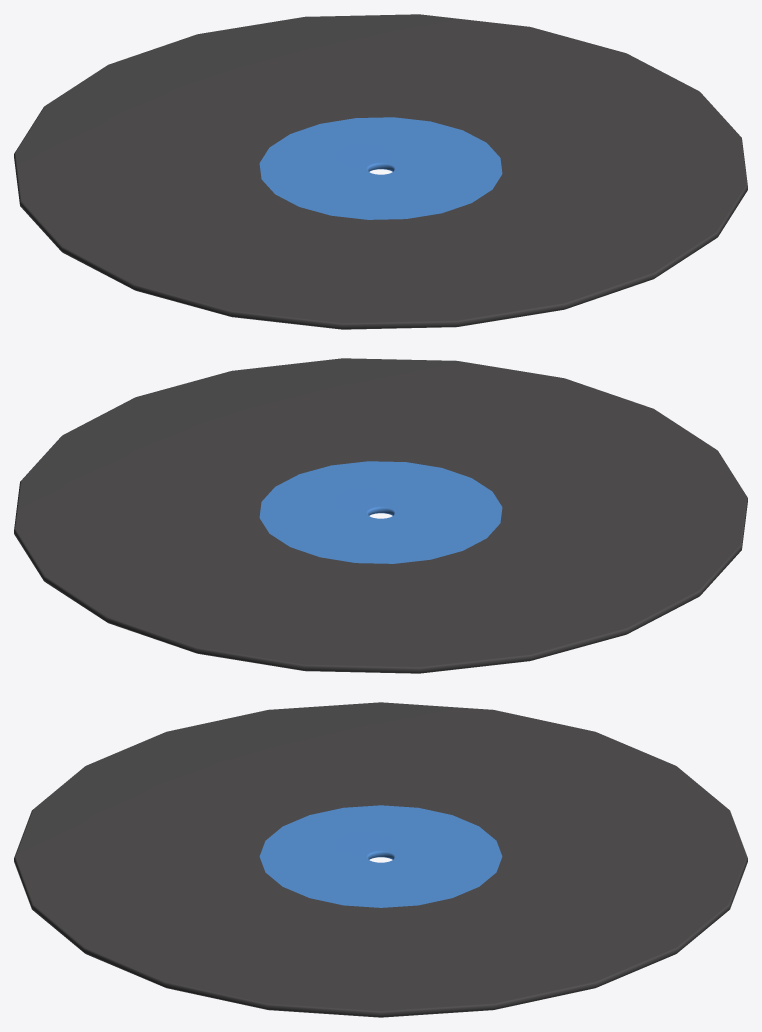
File: Vinyl_3.glb
3 views of the same model, one above another, from view 1: azimuth 30°, elevation 25°; view 2: azimuth 150°, elevation 25°; view 3: azimuth 270°, elevation 25° (orthographic).
Visible parts, largest first — view 1: Vinyl_3; view 2: Vinyl_3; view 3: Vinyl_3.
Boxes of the visible parts, bbox=[...] form: Vinyl_3: bbox=[14, 14, 747, 329]; Vinyl_3: bbox=[14, 358, 747, 673]; Vinyl_3: bbox=[14, 702, 747, 1017].
Size of the model in its own units: 0.2573 by 0.00261 by 0.2573.
Materials: 1 (1 with a texture image).
